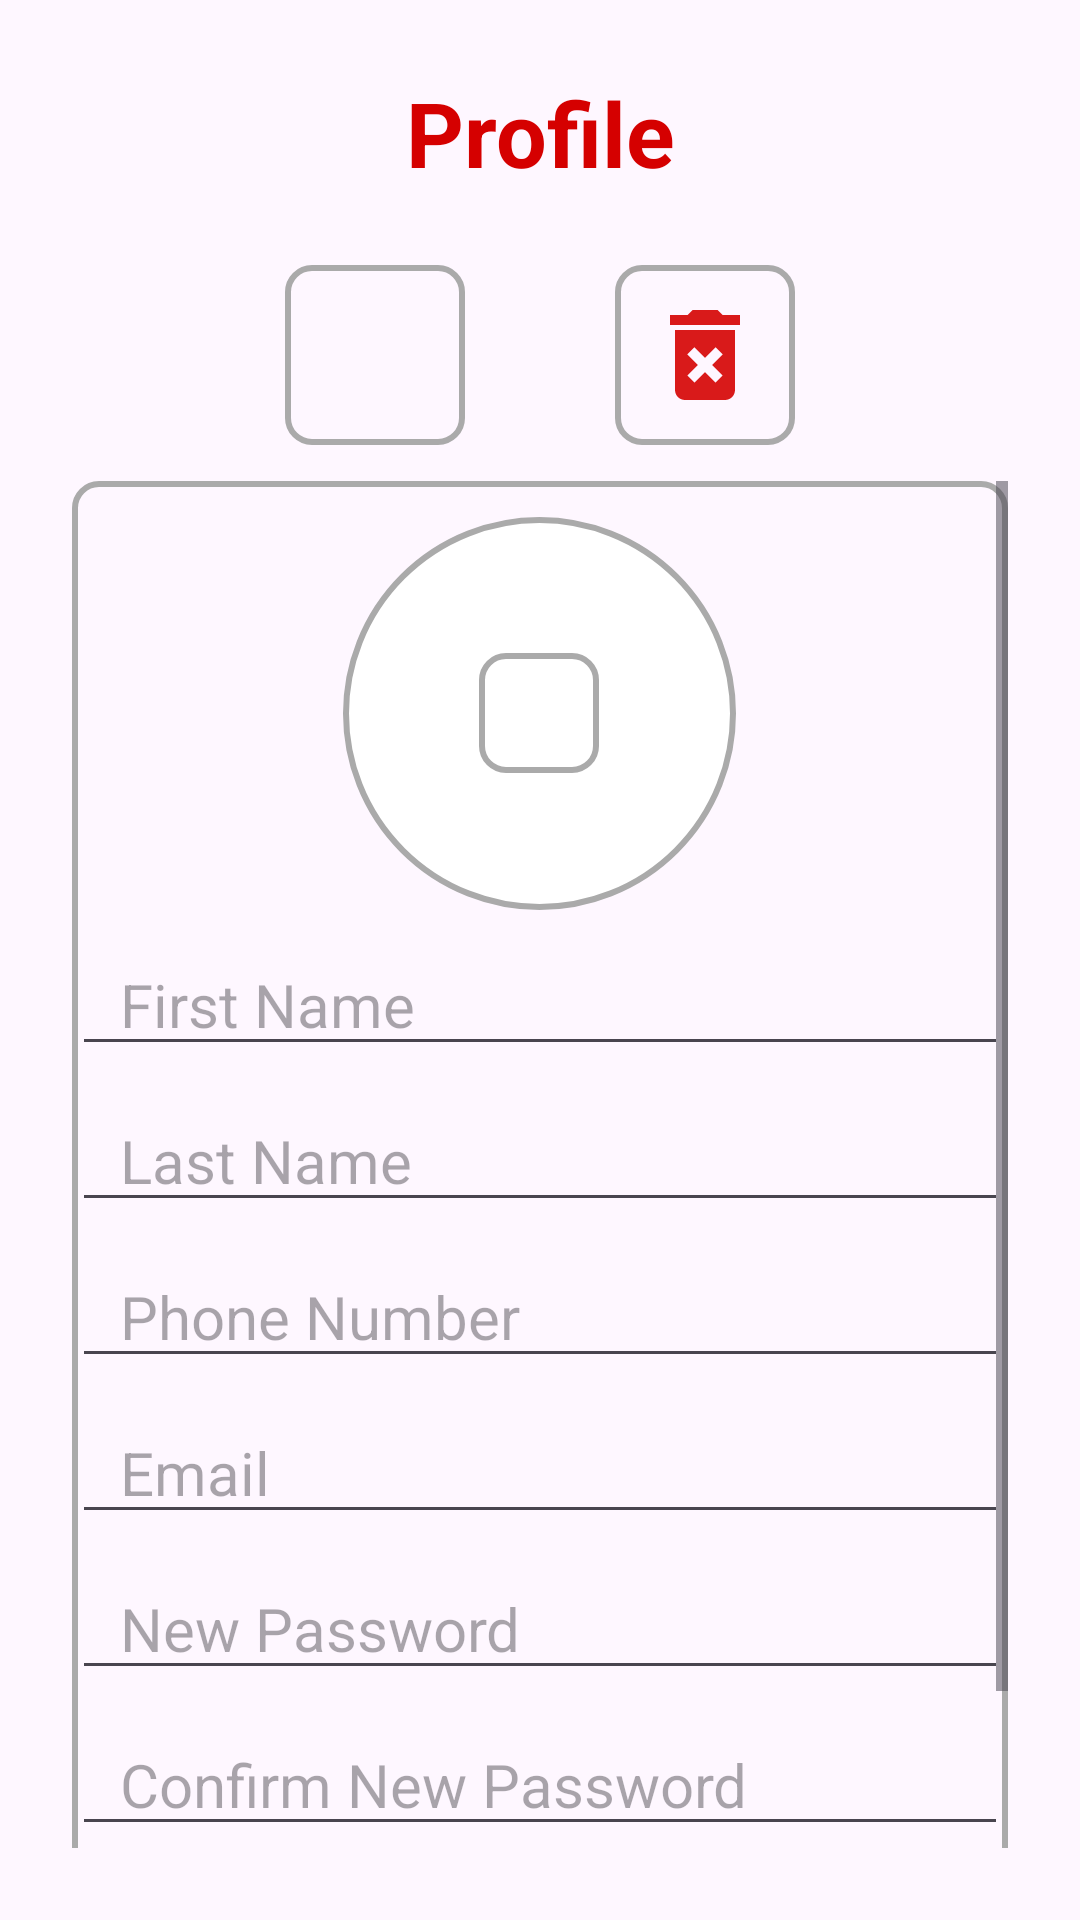

Icons on this 1080w x 1920h Android screen, each with its box as rect(x1, y1, x2, y2):
delete: rect(615, 265, 795, 445)
